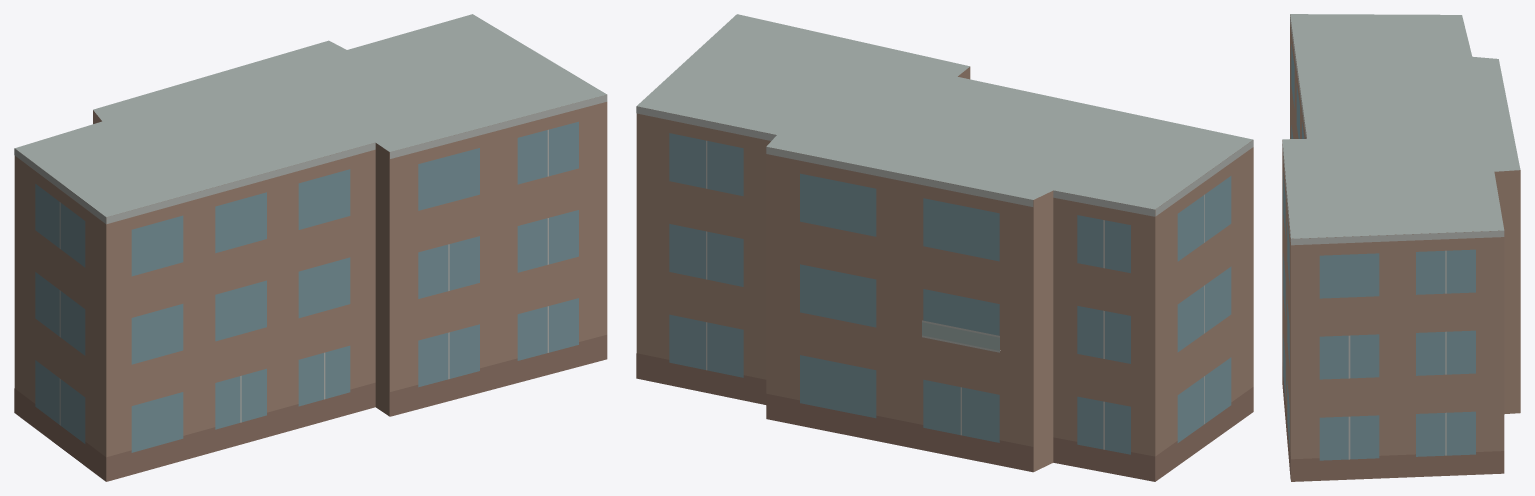
Rendered from survey-upis-32611635.glb.
3 views of the same model, side by side, from view 1: azimuth 30°, elevation 25°; view 2: azimuth 150°, elevation 25°; view 3: azimuth 270°, elevation 25° (orthographic). The views are drawn at different scales.
Parts seen in each view (by area): view 1: survey-upis-32611635.tmp; view 2: survey-upis-32611635.tmp; view 3: survey-upis-32611635.tmp.
Boxes of the visible parts, x1=… form: survey-upis-32611635.tmp: x1=14, y1=14, x2=607, y2=481; survey-upis-32611635.tmp: x1=636, y1=14, x2=1253, y2=481; survey-upis-32611635.tmp: x1=1282, y1=14, x2=1520, y2=481.
Bounding box in the file's own units: 18.16 × 9.15 × 8.14.
